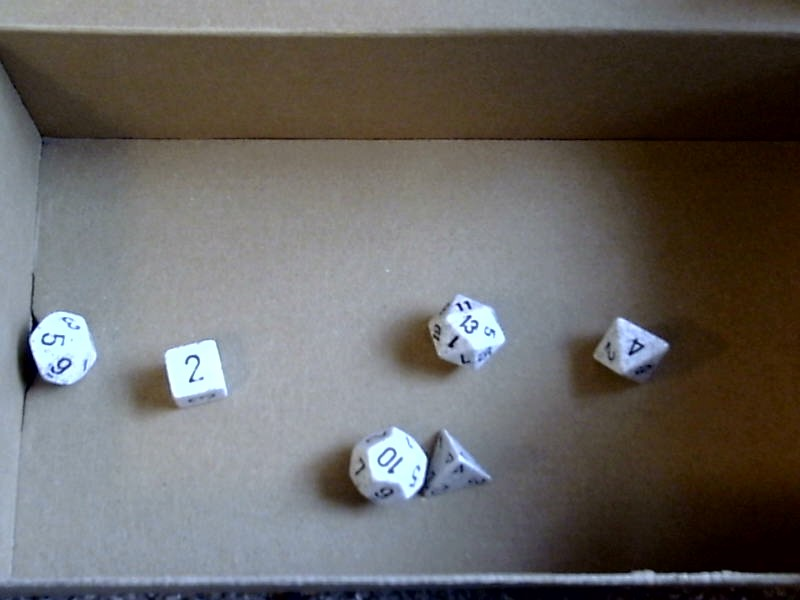d10 5: (19, 297, 105, 403)
d12 10: (334, 421, 427, 525)
d20 13: (418, 286, 512, 380)
d4 4: (423, 421, 494, 524)
d6 2: (155, 335, 233, 413)
d8 4: (588, 309, 680, 391)
